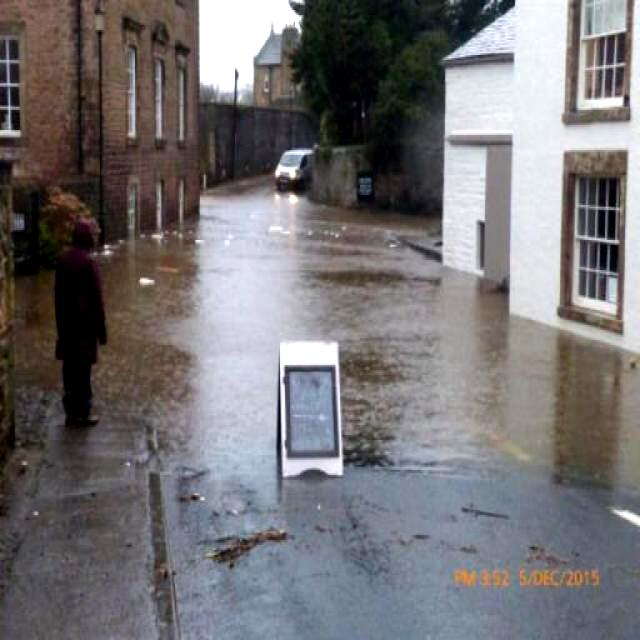civilian: (36, 203, 131, 439)
